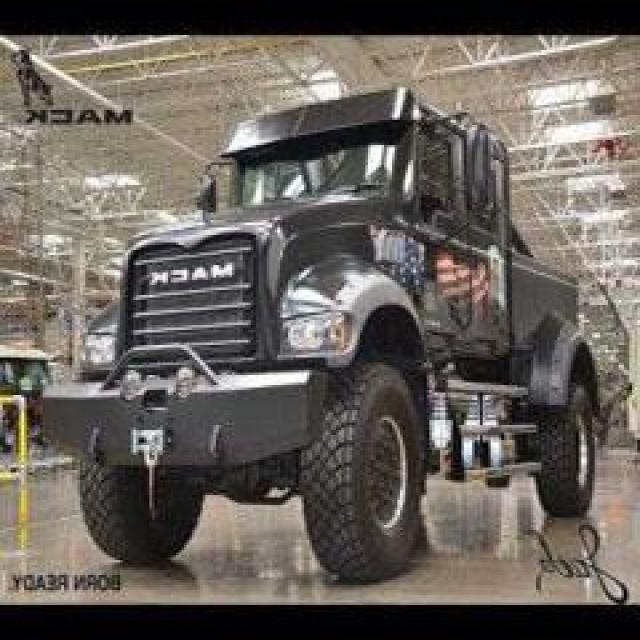truck: (33, 70, 623, 590)
